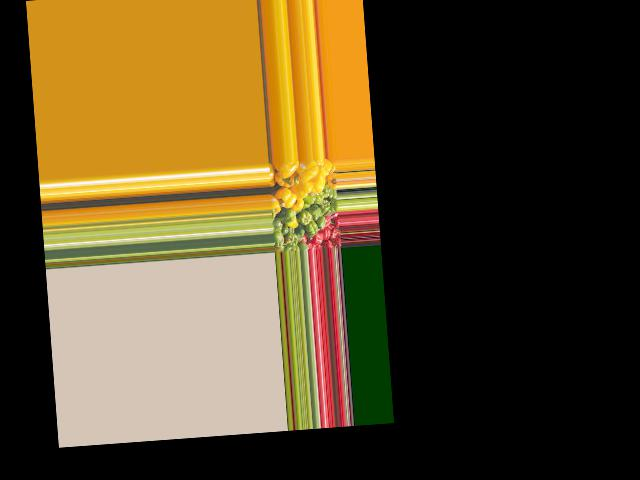bell_pepper: (272, 235, 285, 252)
